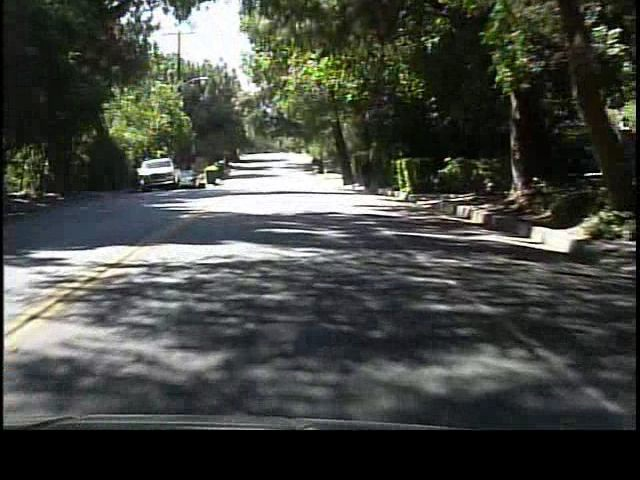person: (358, 154, 377, 197)
